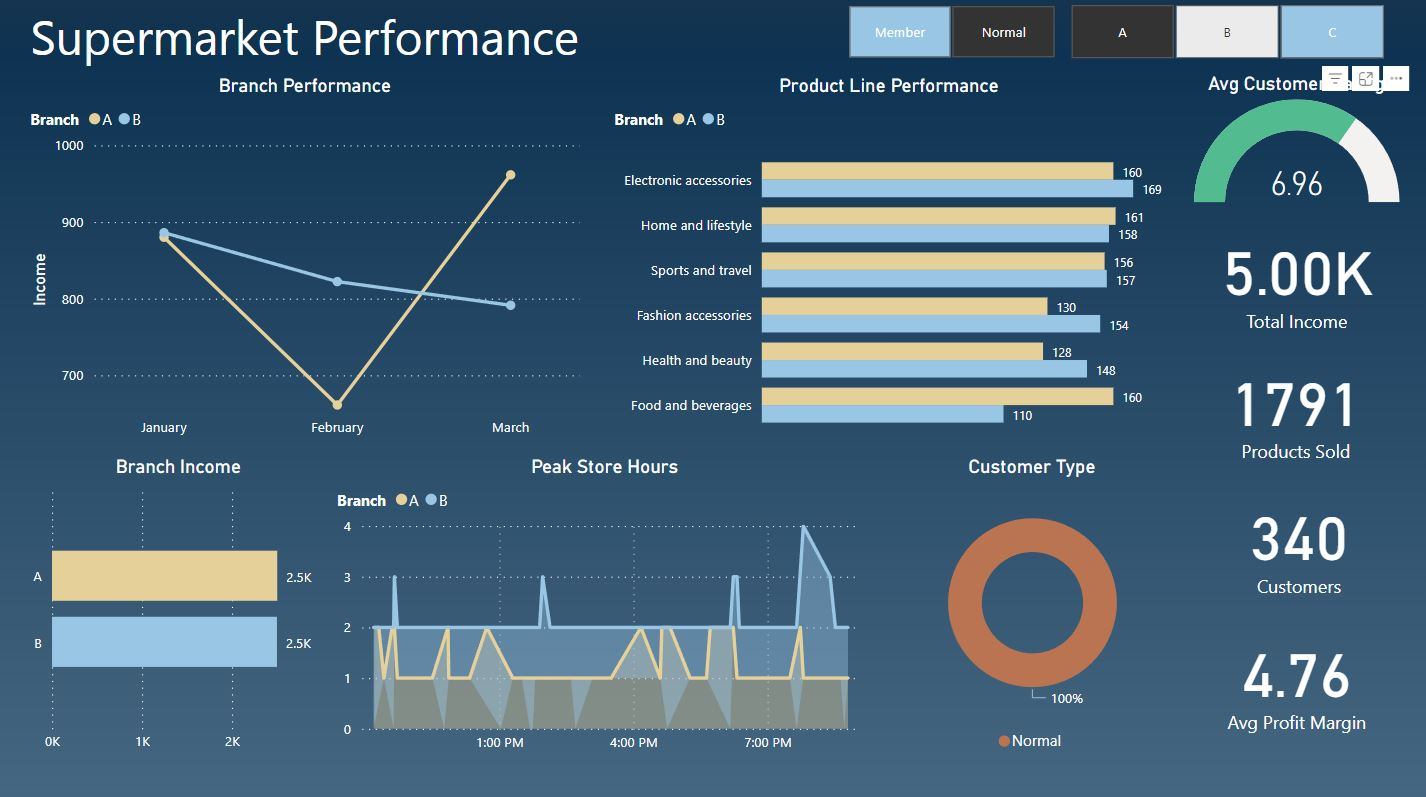

What the dashboard file says about the page in this screenshot:
{"tool":"powerbi","page":{"name":"Page 1","canvas":[1280,720],"ordinal":0},"visuals":[{"type":"textbox","box":[25.3,0,515.1,70],"z":0},{"type":"gauge","title":"Avg Customer Rating","fields":{"MaxValue":["Max(supermarket_sales - Sheet1.Rating)"],"Y":["Avg(supermarket_sales - Sheet1.Rating)"]},"box":[1058.8,68,200.2,120.5],"z":0,"group":"g1"},{"type":"group","id":"g1","title":"Group 1","box":[1057.4,68,203.1,478.2],"z":7,"group":"g2"},{"type":"card","fields":{"Values":["Avg(supermarket_sales - Sheet1.gross margin percentage)"]},"box":[1058,548.1,200.2,119.5],"z":12,"group":"g2"},{"type":"lineChart","title":"Branch Performance","fields":{"Series":["supermarket_sales - Sheet1.Branch"],"Category":["supermarket_sales - Sheet1.Date.Variation.Date Hierarchy.Month"],"Y":["Sum(supermarket_sales - Sheet1.gross income)"]},"box":[25.3,70,499.6,331.4],"z":1000},{"type":"card","fields":{"Values":["Sum(supermarket_sales - Sheet1.gross income)"]},"box":[1058.4,190.5,200.2,119.5],"z":1000,"group":"g1"},{"type":"clusteredBarChart","title":"Branch Income","fields":{"Category":["supermarket_sales - Sheet1.Branch"],"Y":["Sum(supermarket_sales - Sheet1.gross income)"]},"box":[25.3,409.2,274.1,273.1],"z":2000},{"type":"card","fields":{"Values":["CountNonNull(supermarket_sales - Sheet1.Customer type)"]},"box":[1060.3,426.7,200.2,119.5],"z":2000,"group":"g1"},{"type":"clusteredBarChart","title":"Product Line Performance","fields":{"Category":["supermarket_sales - Sheet1.Product line"],"Y":["Sum(supermarket_sales - Sheet1.Quantity)"],"Series":["supermarket_sales - Sheet1.Branch"]},"box":[546.2,70,499.6,331.4],"z":3000},{"type":"card","fields":{"Values":["Sum(supermarket_sales - Sheet1.Quantity)"]},"box":[1057.4,306.1,200.2,120.5],"z":3000,"group":"g1"},{"type":"stackedAreaChart","title":"Peak Store Hours","fields":{"Category":["supermarket_sales - Sheet1.Time"],"Y":["CountNonNull(supermarket_sales - Sheet1.Customer type)"],"Series":["supermarket_sales - Sheet1.Branch"]},"box":[299.3,409.2,486.9,273.1],"z":4000},{"type":"donutChart","title":"Customer Type","fields":{"Category":["supermarket_sales - Sheet1.Customer type"],"Y":["CountNonNull(supermarket_sales - Sheet1.Customer type)"]},"box":[786.3,409.2,274.1,273.1],"z":5000},{"type":"group","id":"g2","title":"Group 2","box":[1057.4,68,203.1,599.6],"z":6000},{"type":"slicer","fields":{"Values":["supermarket_sales - Sheet1.Branch"]},"box":[932.1,0,328.5,61.2],"z":6001},{"type":"slicer","fields":{"Values":["supermarket_sales - Sheet1.Customer type"]},"box":[734.8,1,233.3,59.3],"z":6002}]}

Visuals, with their boxes in screenshot pixels (x1, y1, x2, y2), scaled from the page's 1280x720 canvas onto the 1426x797 screenshot:
textbox: 28,0,602,77
"Avg Customer Rating" gauge: 1180,75,1403,209
"Group 1" group: 1178,75,1404,605
card - Avg(supermarket_sales - Sheet1.gross margin percentage): 1179,607,1402,739
"Branch Performance" lineChart: 28,77,585,444
card - Sum(supermarket_sales - Sheet1.gross income): 1179,211,1402,343
"Branch Income" clusteredBarChart: 28,453,334,755
card - CountNonNull(supermarket_sales - Sheet1.Customer type): 1181,472,1404,605
"Product Line Performance" clusteredBarChart: 609,77,1165,444
card - Sum(supermarket_sales - Sheet1.Quantity): 1178,339,1401,472
"Peak Store Hours" stackedAreaChart: 333,453,876,755
"Customer Type" donutChart: 876,453,1181,755
"Group 2" group: 1178,75,1404,739
slicer - supermarket_sales - Sheet1.Branch: 1038,0,1404,68
slicer - supermarket_sales - Sheet1.Customer type: 819,1,1079,67
